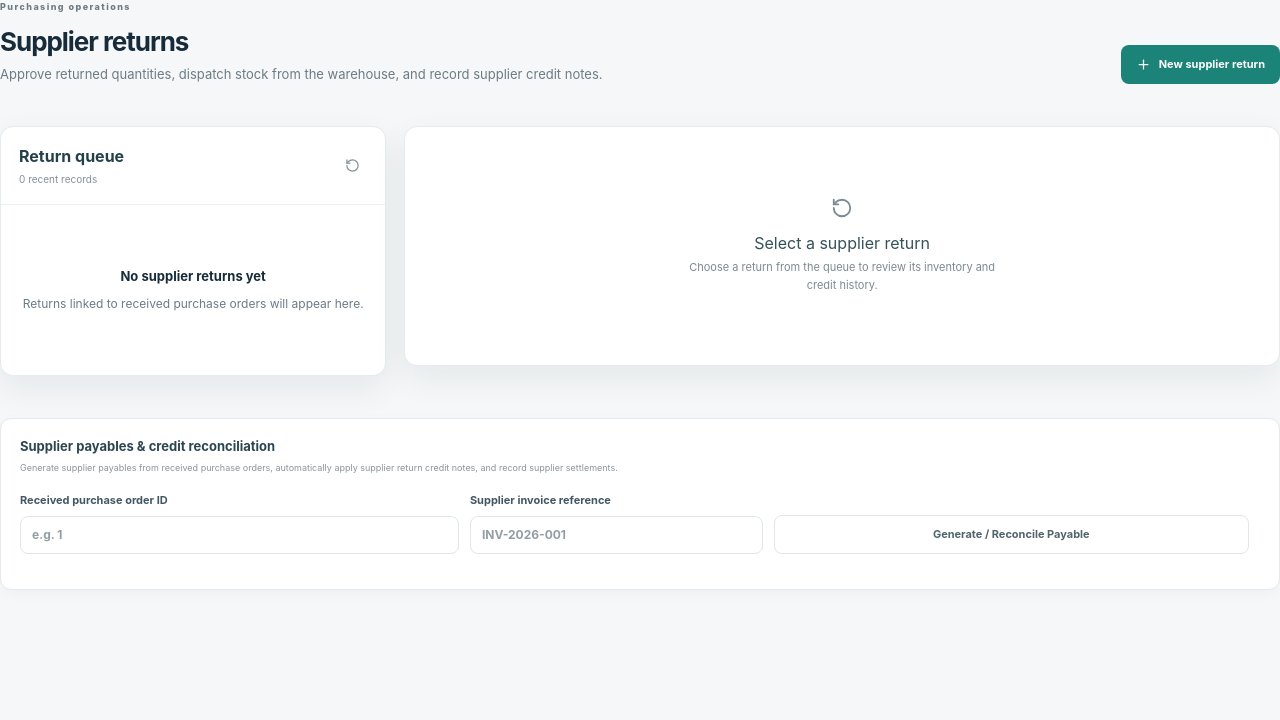
Scenario: SupplierReturnsPage › creates a supplier return for received quantities and submits it for approval
Step 1. Click the button "New supplier return" → (1200, 64), box [1121,45,1279,84]
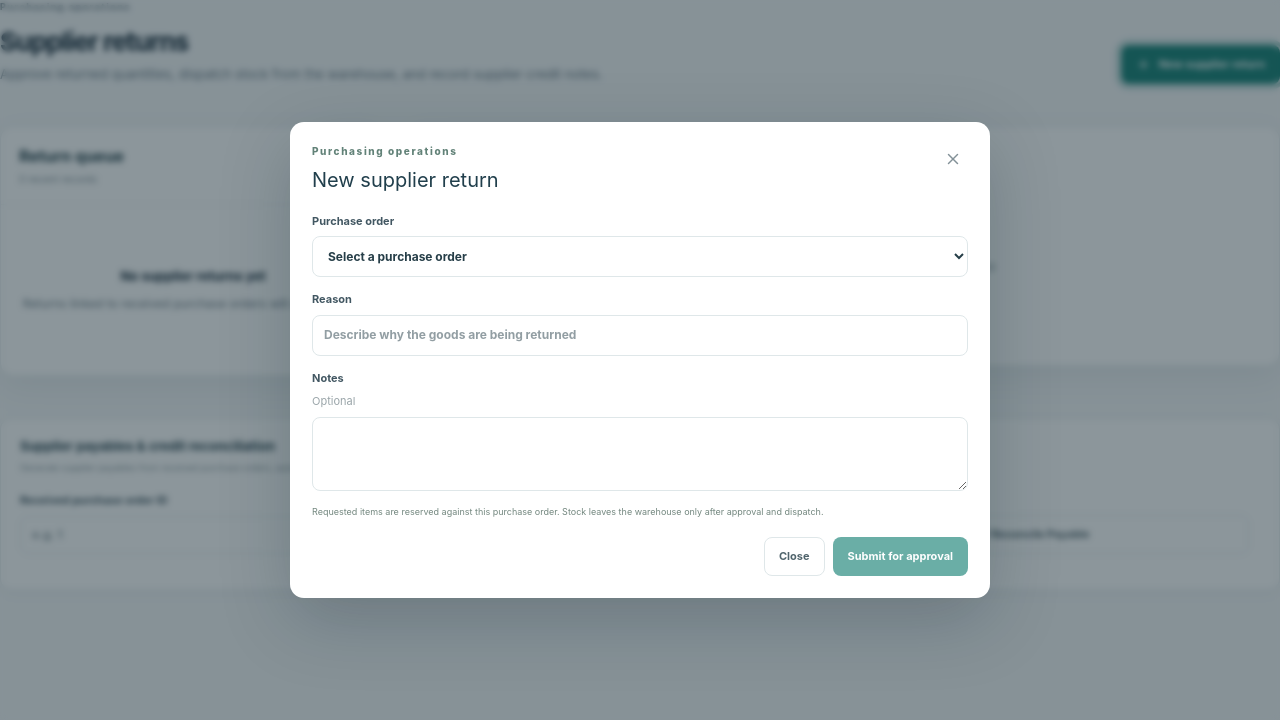
Step 2. Select "PO-000021 · Harbor Supply · RECEIVED" in the dropdown labelled "Purchase order" → (640, 257), box [312,236,968,277]
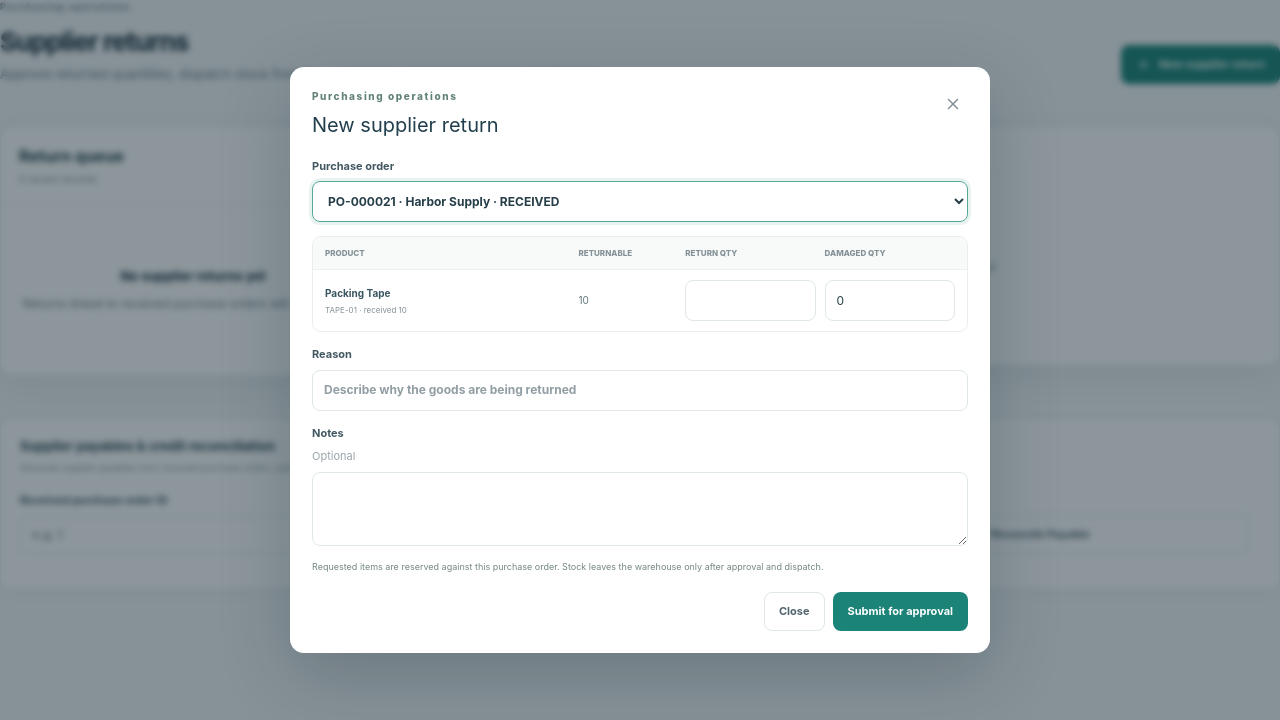
Step 3. Type "2" into the number field named "Return quantity for TAPE-01" → (750, 301), box [685,280,816,321]
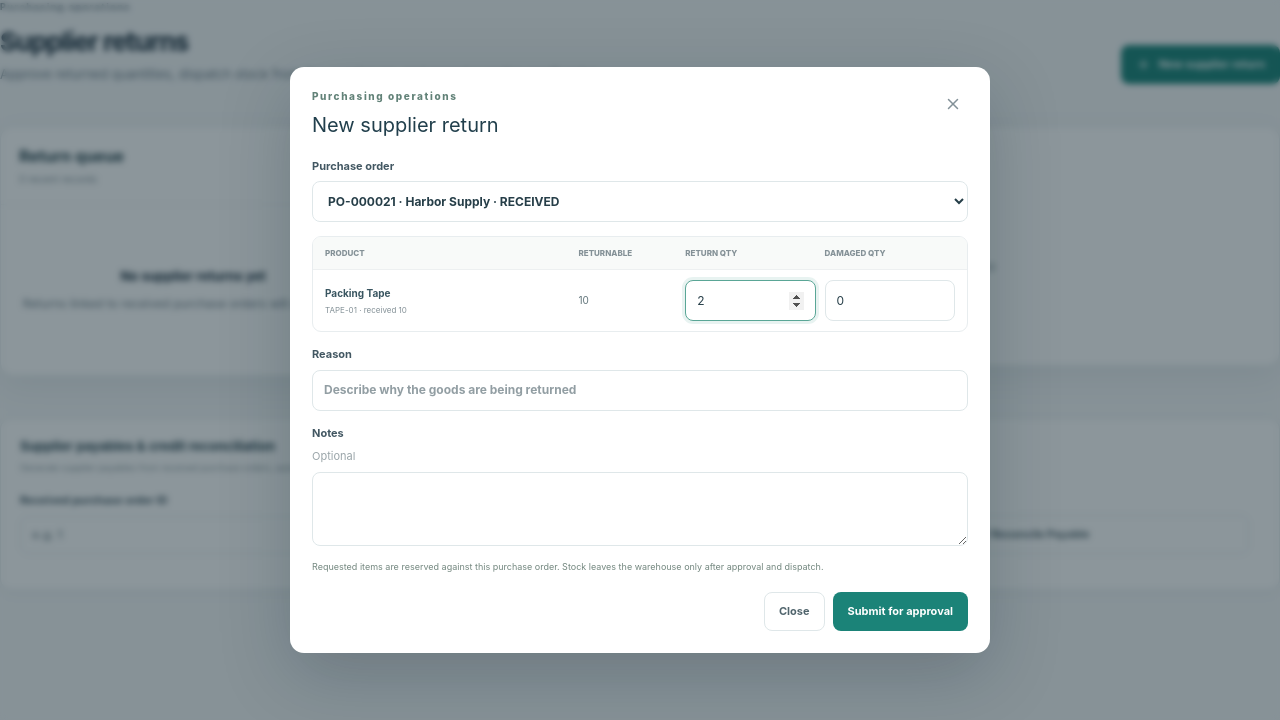
Step 4. Type "1" into the number field named "Damaged quantity for TAPE-01" → (890, 301), box [825,280,955,321]
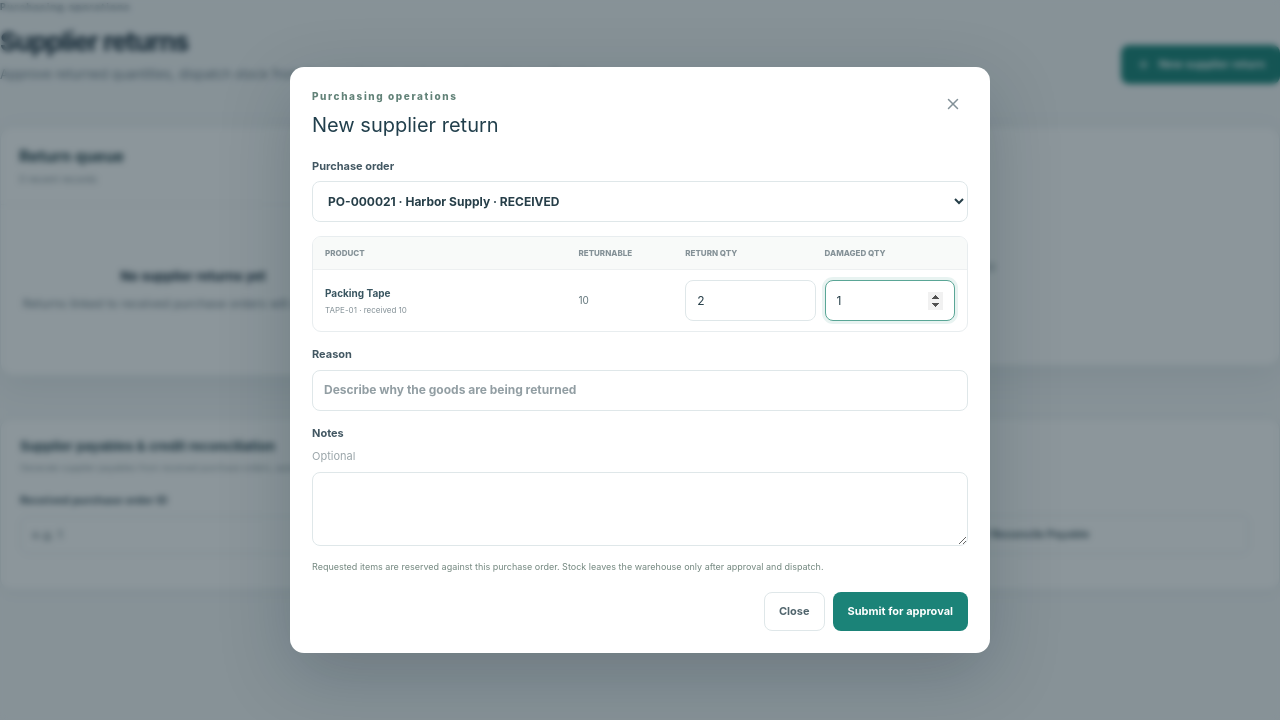
Step 5. Type "Damaged packaging" into the field labelled "Reason" → (640, 390), box [312,370,968,411]
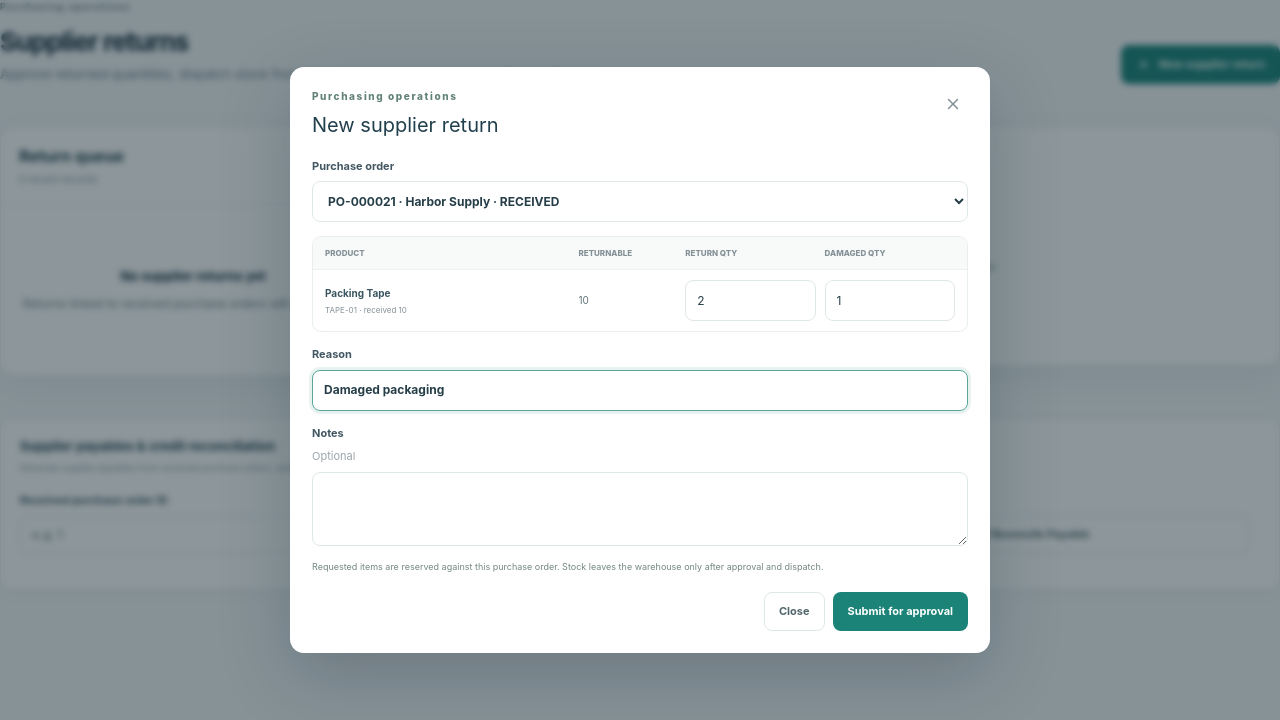
Step 6. Click the button "Submit for approval" → (900, 612), box [832,592,968,631]
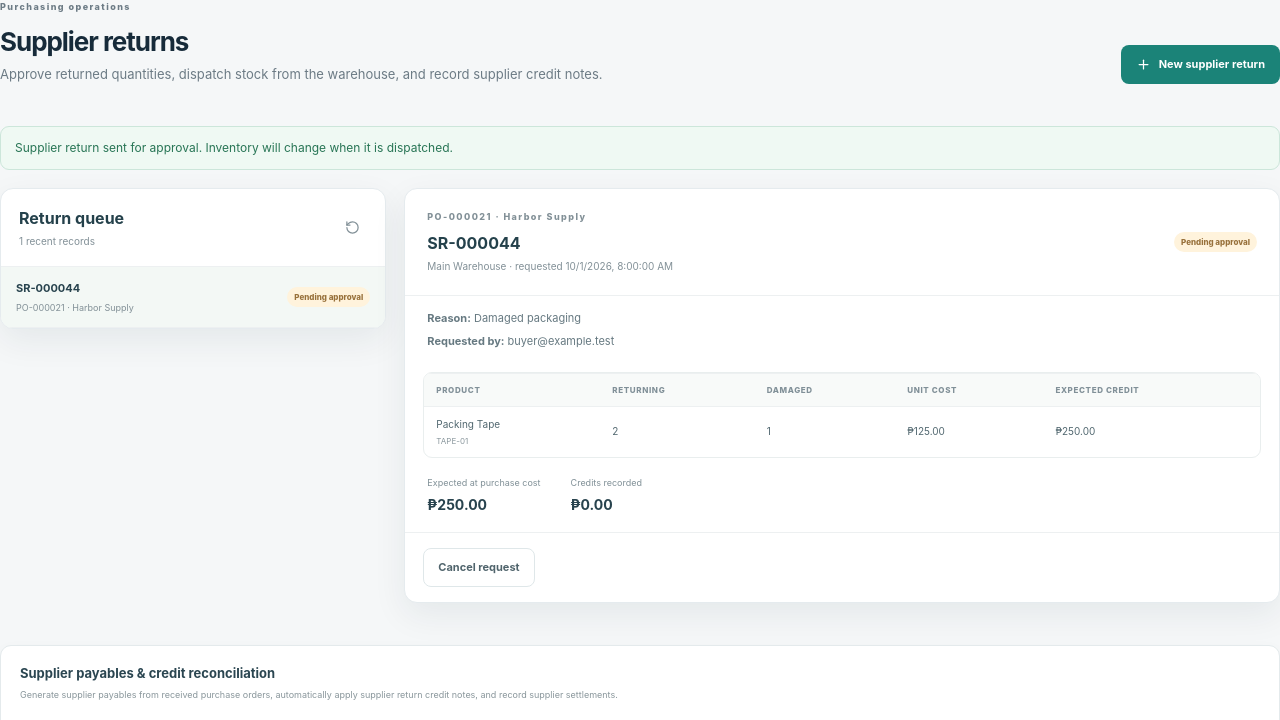
Result: the text "SR-000044" is shown 2 times at [16,281,80,295]; [427,232,521,252]
Result: the text "Pending approval" is shown 2 times at [287,287,370,307]; [1174,232,1257,252]
